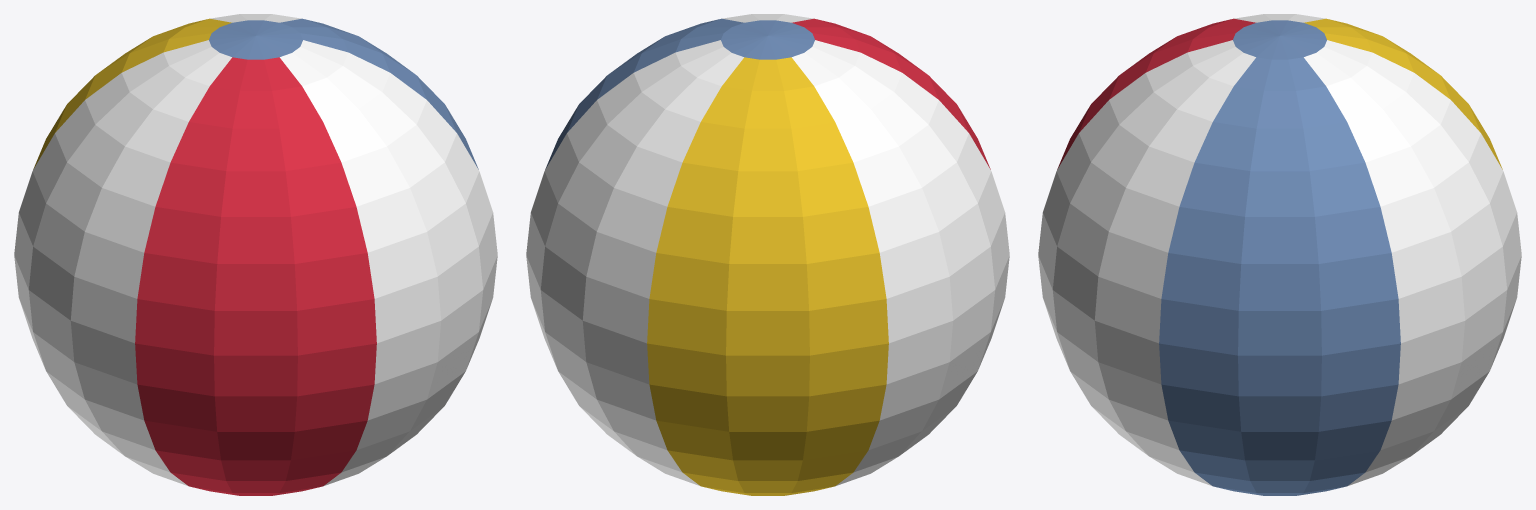
Rendered from ball.gltf.
3 renders of one model, left to right at view 1: azimuth 30°, elevation 25°; view 2: azimuth 150°, elevation 25°; view 3: azimuth 270°, elevation 25°, orthographic.
Parts seen in each view (by area): view 1: Sphere; view 2: Sphere; view 3: Sphere.
Boxes of the visible parts, x1=… form: Sphere: x1=14, y1=14, x2=497, y2=495; Sphere: x1=526, y1=14, x2=1009, y2=495; Sphere: x1=1038, y1=14, x2=1521, y2=495.
Bounding box in the file's own units: 1.97 × 2 × 2.
